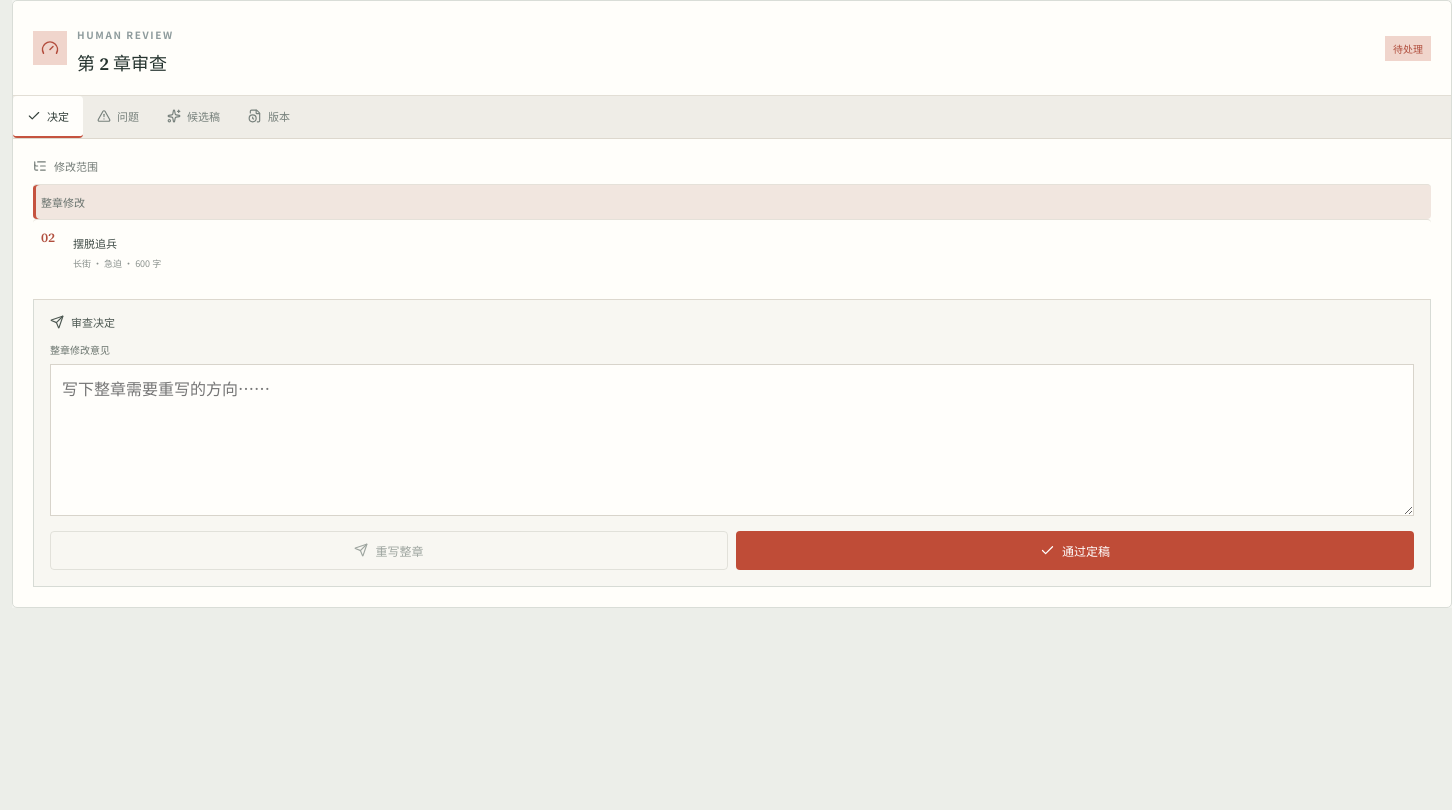
Test: ReviewWorkspace › switches among decision, issues, candidates, and versions
Expected: the text box labelled "整章修改意见" is shown, [50,364,1414,516]
Click the tab "候选稿" at (194, 117), box [153,96,234,138]
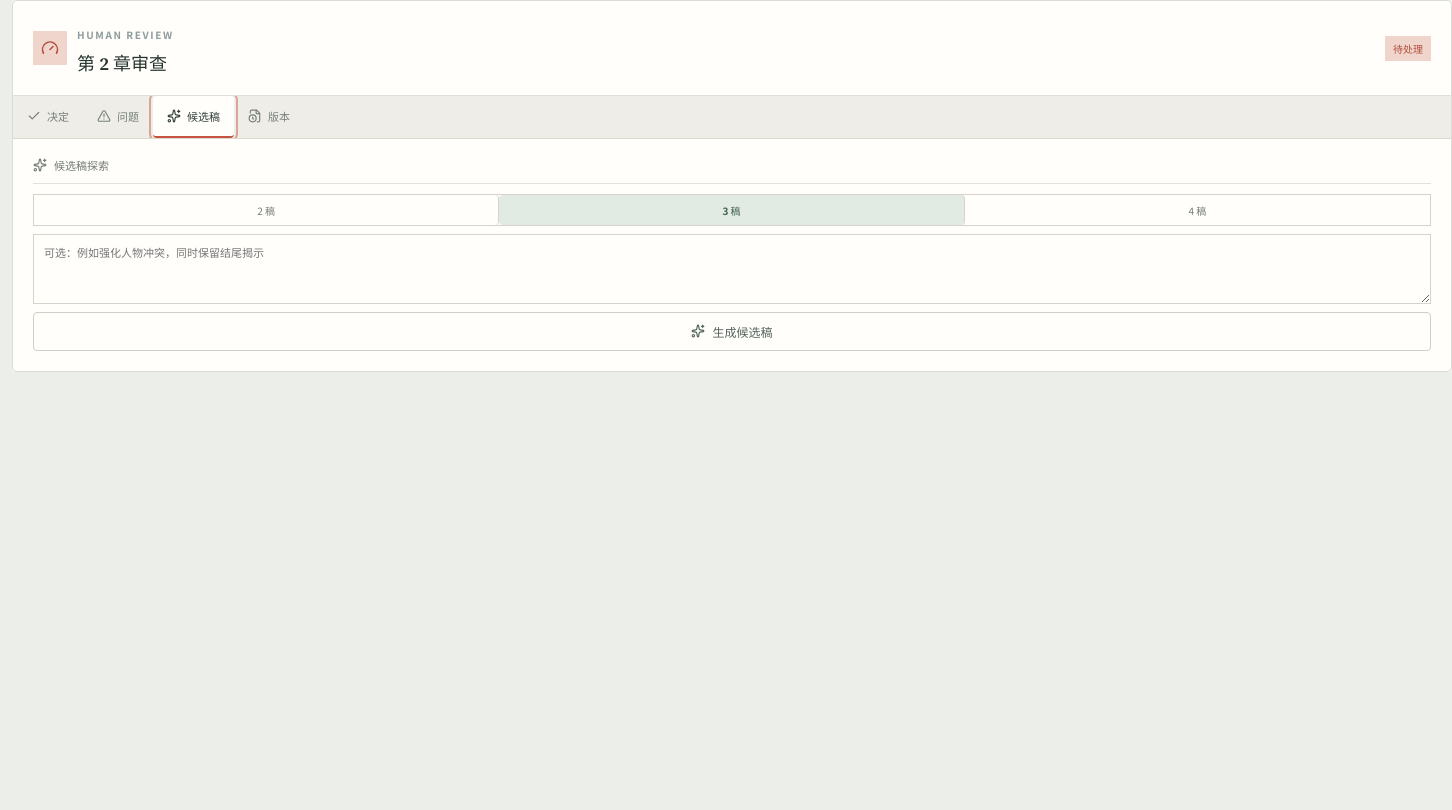
Expected: the panel "候选稿探索 2 稿 3 稿 4 稿 生成候选稿" is shown, [13,139,1451,350]
Click the tab "版本" at (269, 117), box [234,96,304,138]
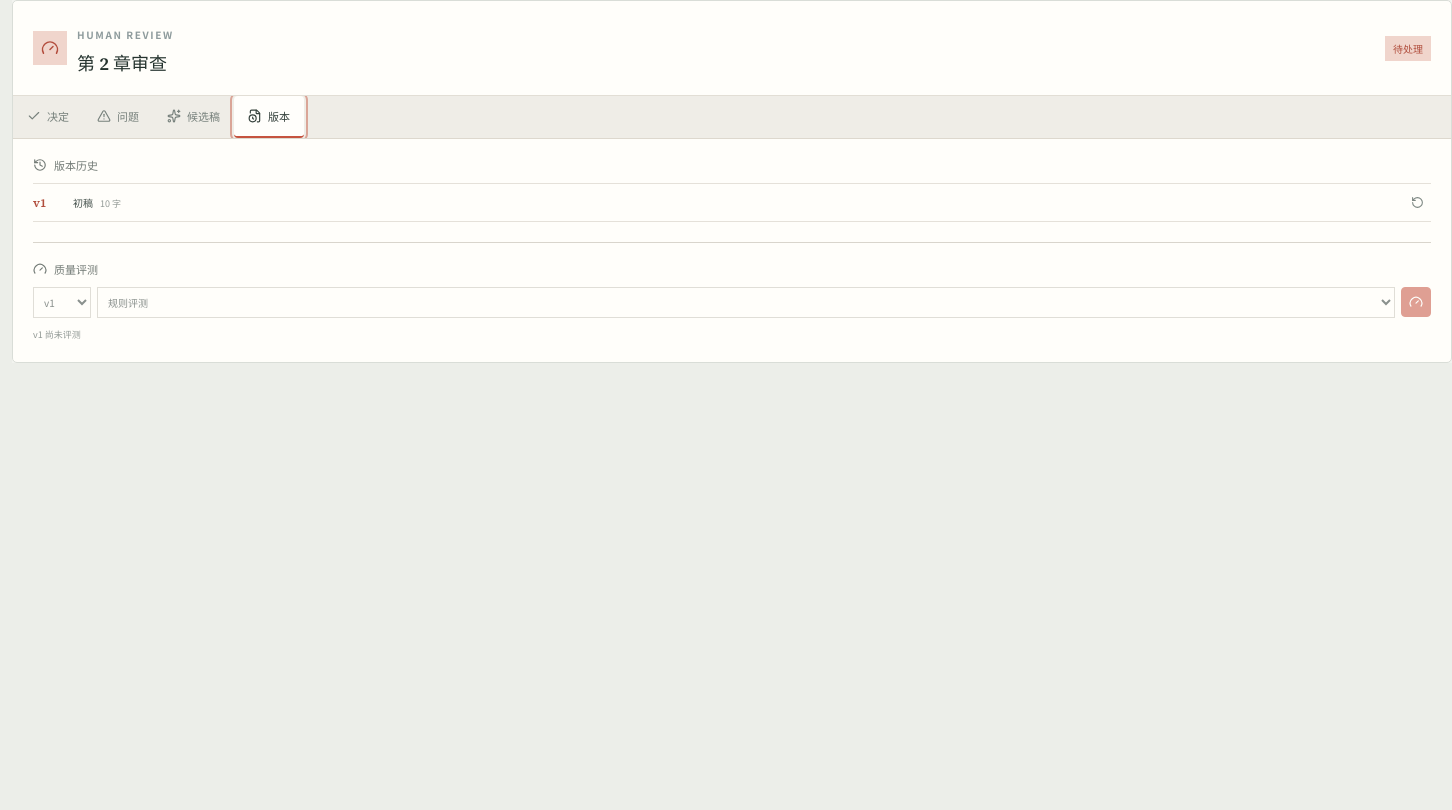
Expected: the panel "版本历史 v1 初稿 10 字 质量评测 v1 尚未评测" is shown, [13,139,1451,342]
Click the tab "问题" at (118, 117), box [83,96,153,138]
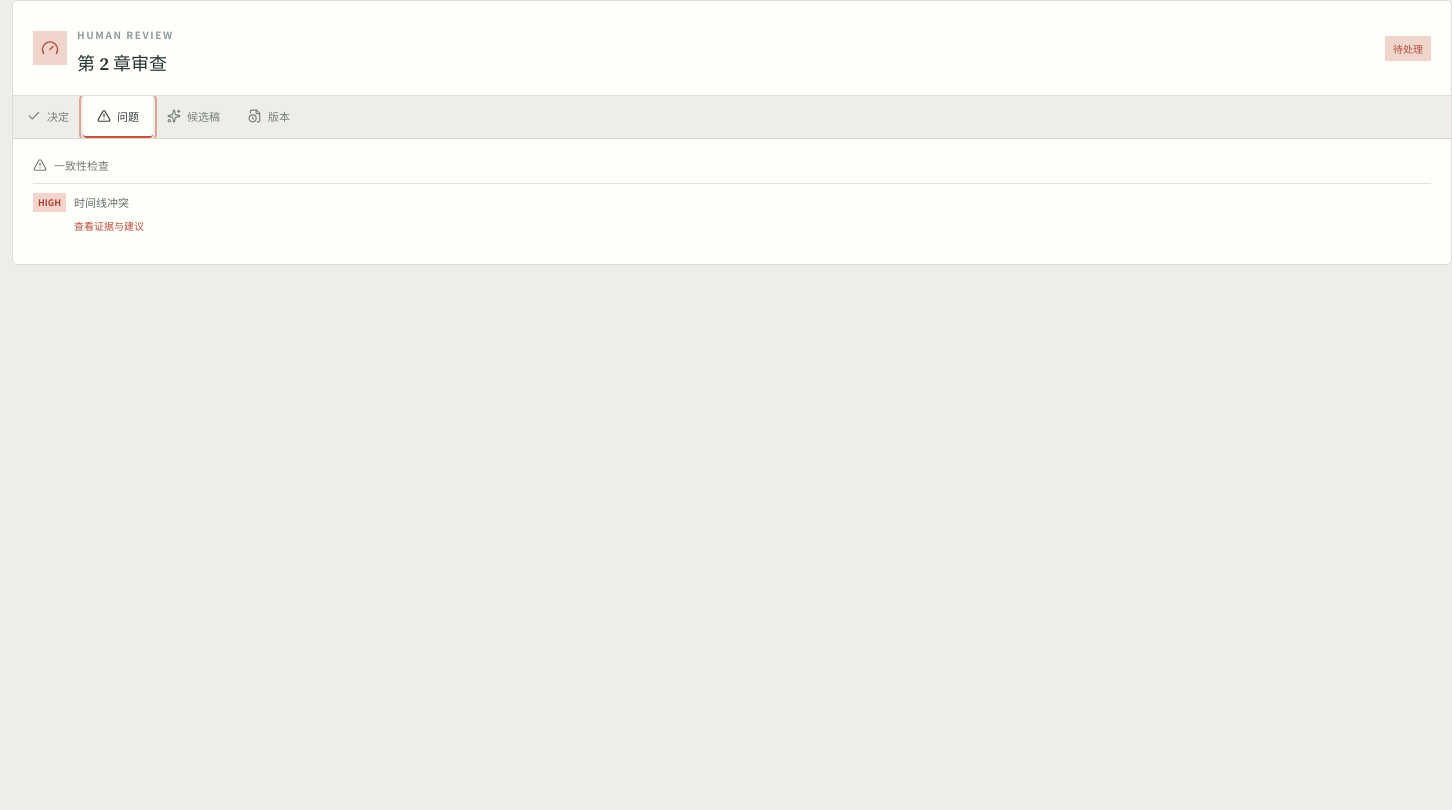
Expected: the panel named "问题" is shown, [13,139,1451,244]
Click the tab "决定" at (48, 117), box [13,96,83,138]
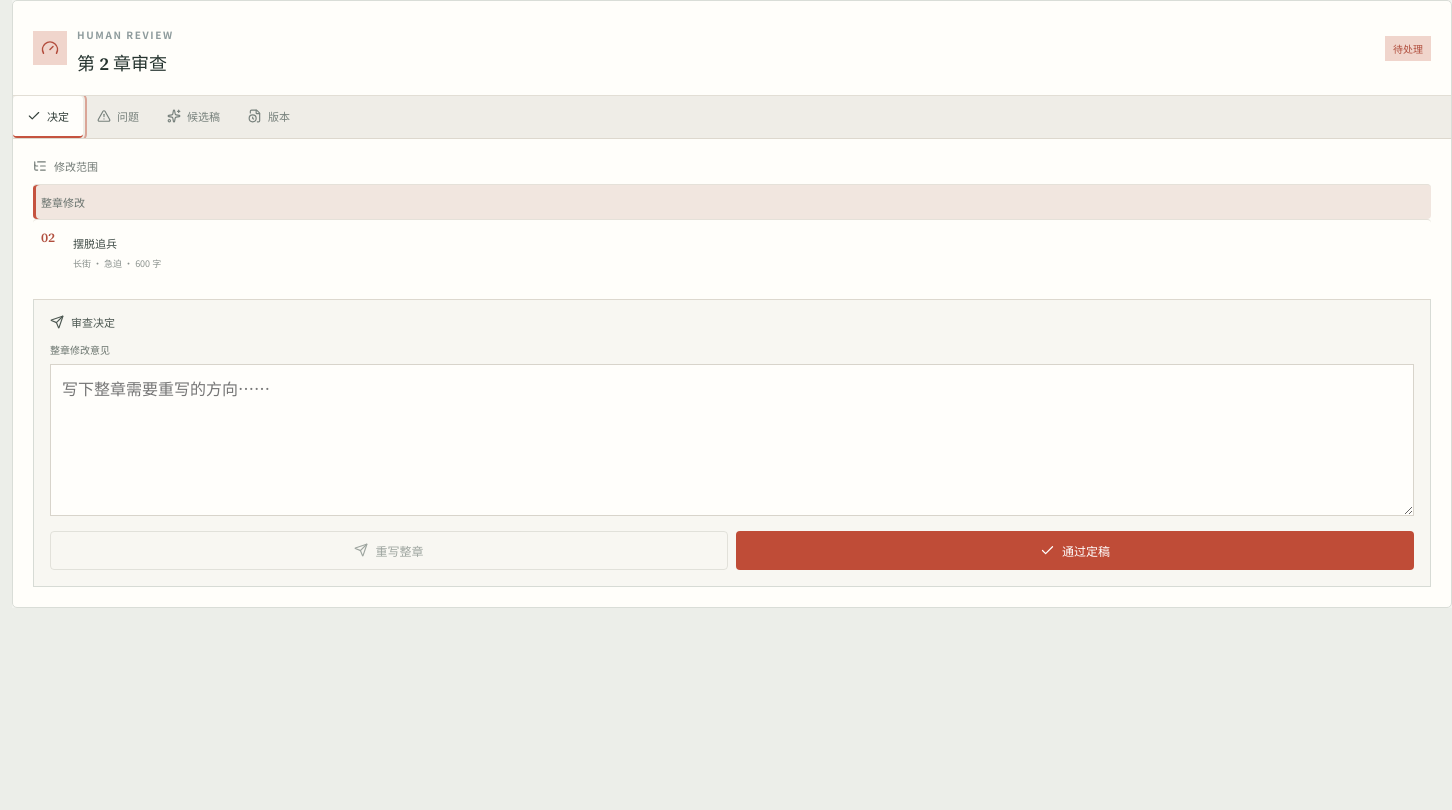
Expected: the text box labelled "整章修改意见" is shown, [50,364,1414,516]
